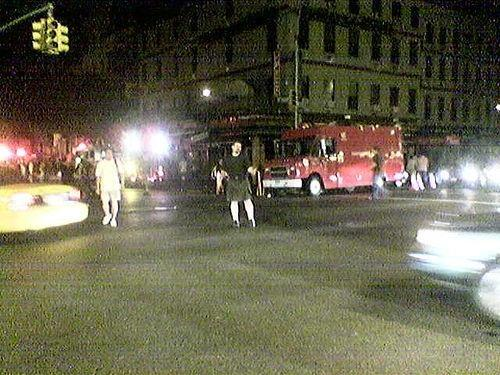car: (406, 212, 498, 328), (0, 162, 89, 233), (461, 160, 500, 189)
truck: (262, 126, 408, 198)
